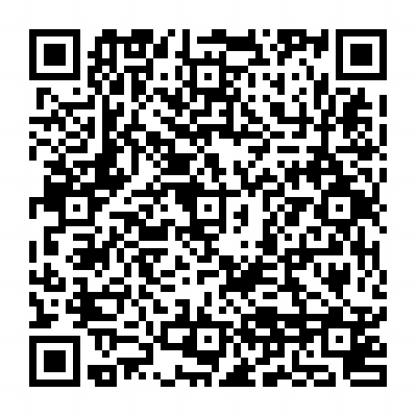qr: (25, 25, 394, 396)
